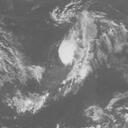cyclone: (50, 9, 103, 78)
